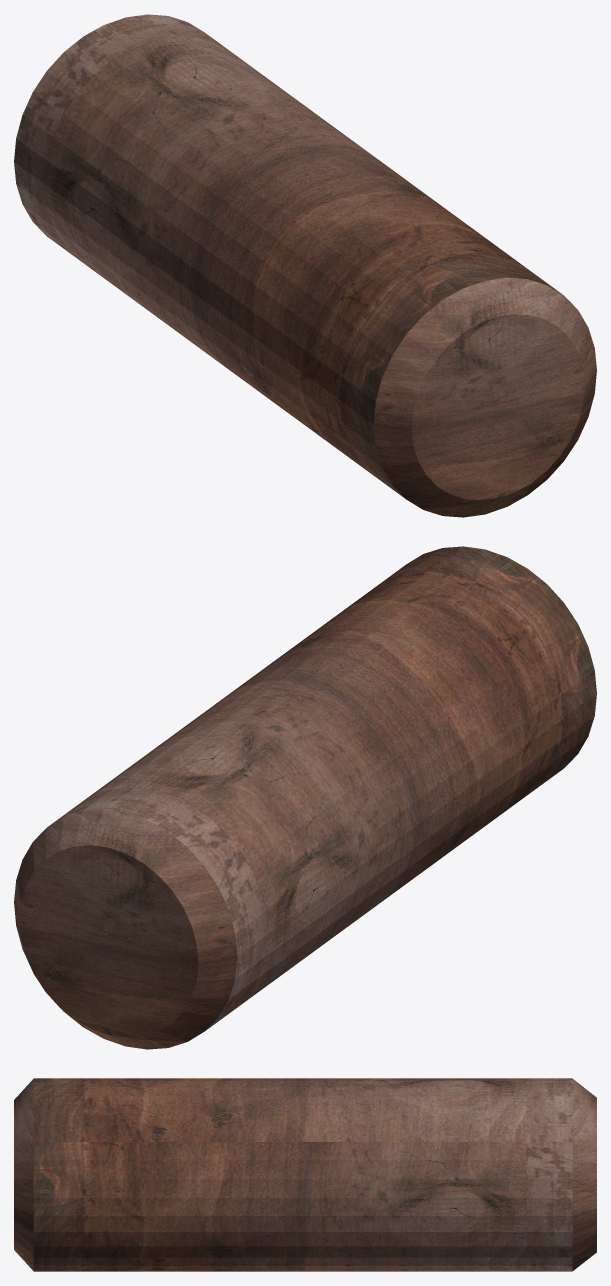
File: molkkyHeitto.glb
3 views of the same model, one above another, from view 1: azimuth 30°, elevation 25°; view 2: azimuth 150°, elevation 25°; view 3: azimuth 270°, elevation 25° (orthographic). The views are drawn at different scales.
Visible parts, largest first — view 1: Cylinder.002; view 2: Cylinder.002; view 3: Cylinder.002.
Part boxes in pixels (left/top/right/bottom): Cylinder.002: left=14, top=14, right=596, bottom=517; Cylinder.002: left=14, top=546, right=596, bottom=1049; Cylinder.002: left=14, top=1078, right=596, bottom=1271.
Size of the model in its own units: 0.6876 by 0.6876 by 2.07.
1 material, 1 textured.
